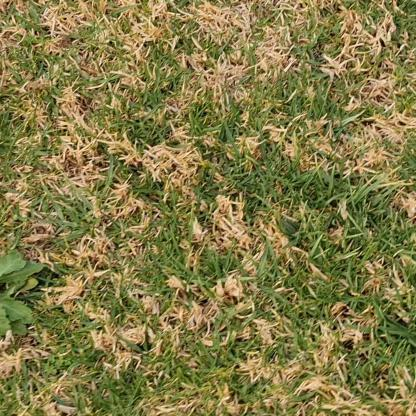Weeds: (0, 246, 46, 349)
